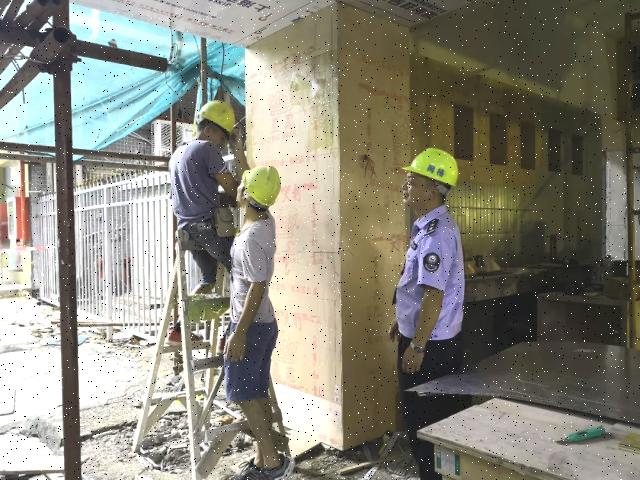Helmet: (397, 142, 462, 192), (240, 159, 284, 215), (194, 95, 239, 139)
